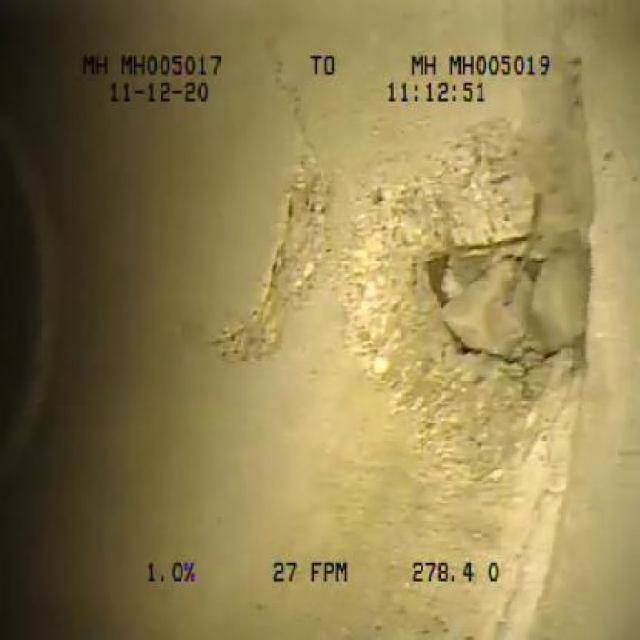Hole: (352, 129, 603, 486)
